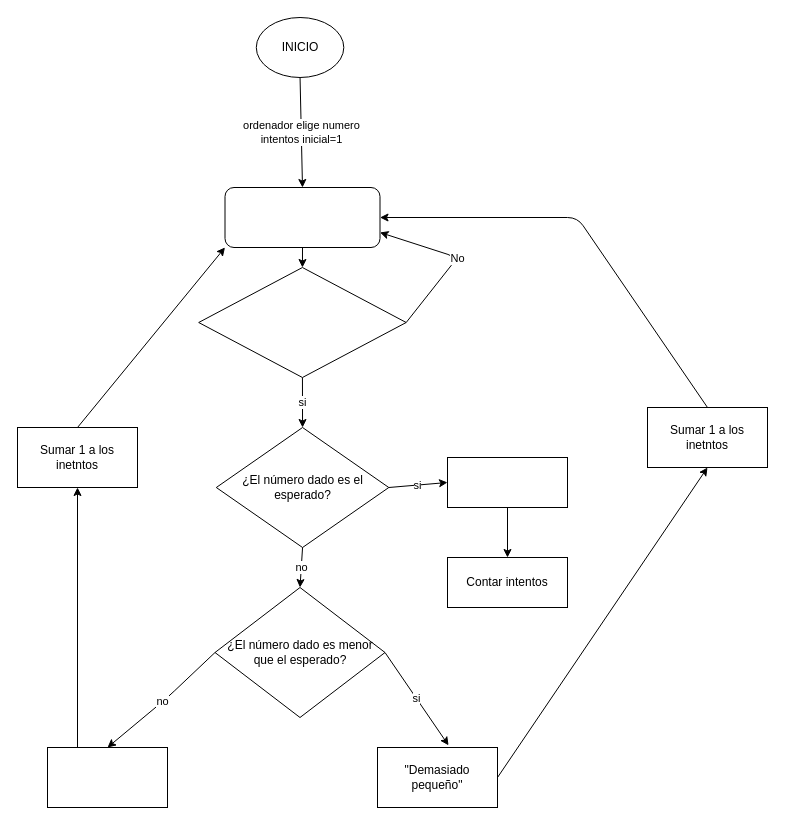
Image size: 785x825. Some labels were removed from this diagram. The centre of each missing label's shape, as x and y in pixels:
"Demasiado grande": the point at 107,777
"¡Ha ganado!": the point at 507,482
INTRODUCE UN NÚMERO ENTRE 1 Y 99: the point at 302,217
¿Es un número entero entre 1 y 99?: the point at 302,322
